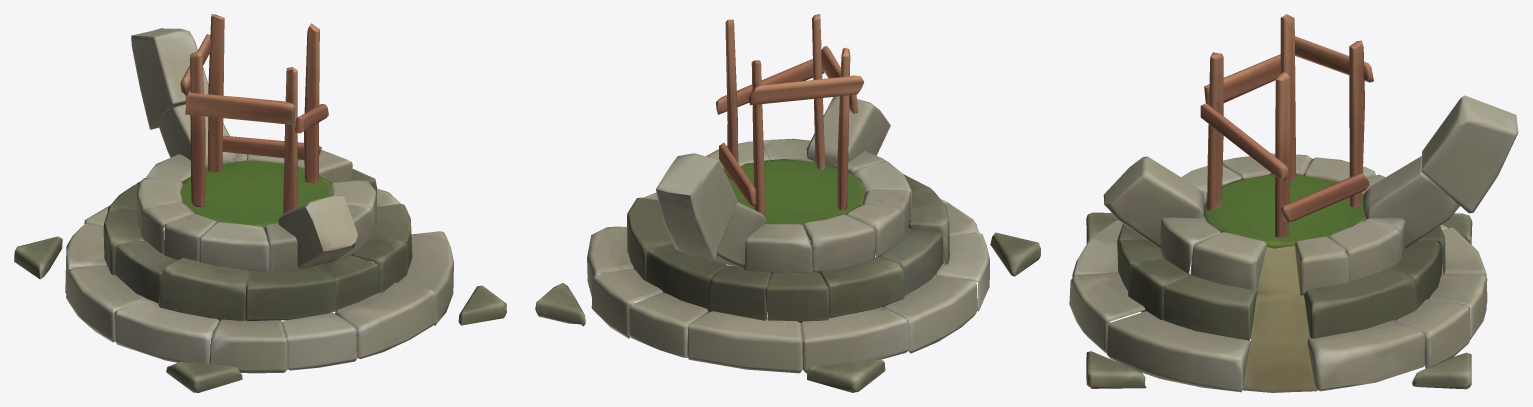
The model's file is SM_Monument_02.glb.
The picture shows the model from 3 angles, left to right: view 1: azimuth 30°, elevation 25°; view 2: azimuth 150°, elevation 25°; view 3: azimuth 270°, elevation 25°; orthographic projection. The views are drawn at different scales.
Parts seen in each view (by area): view 1: SM_Monument_02; view 2: SM_Monument_02; view 3: SM_Monument_02.
Part boxes in pixels (x1,y1,x2,y2): SM_Monument_02: [14, 14, 506, 392]; SM_Monument_02: [535, 14, 1040, 392]; SM_Monument_02: [1069, 14, 1518, 392].
Bounding box in the file's own units: 8.52 × 6.11 × 9.32.
1 material, 1 textured.
